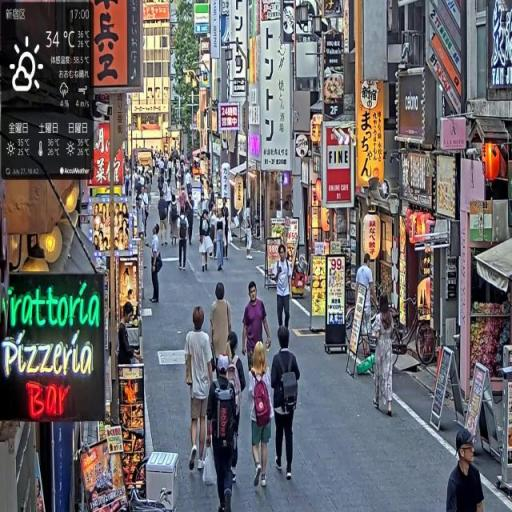person: (206, 354, 242, 512), (185, 303, 216, 474), (271, 326, 302, 481), (248, 343, 275, 490), (447, 429, 486, 512), (242, 280, 272, 378), (210, 282, 235, 369), (274, 245, 294, 340), (150, 223, 164, 305), (177, 204, 191, 272), (200, 211, 215, 274), (159, 193, 170, 247), (170, 194, 181, 247)
